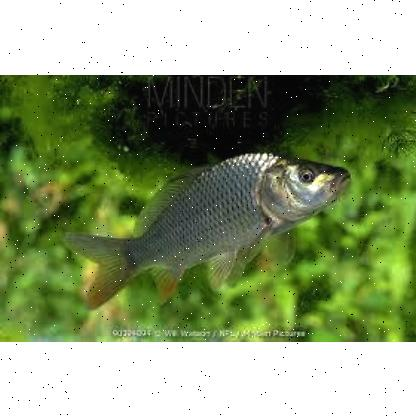ikan-mas: (64, 146, 354, 312)
